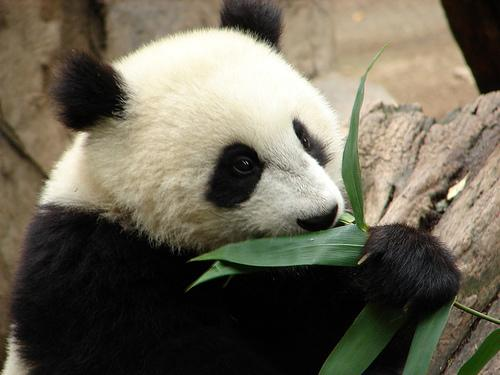panda: (3, 0, 459, 374)
